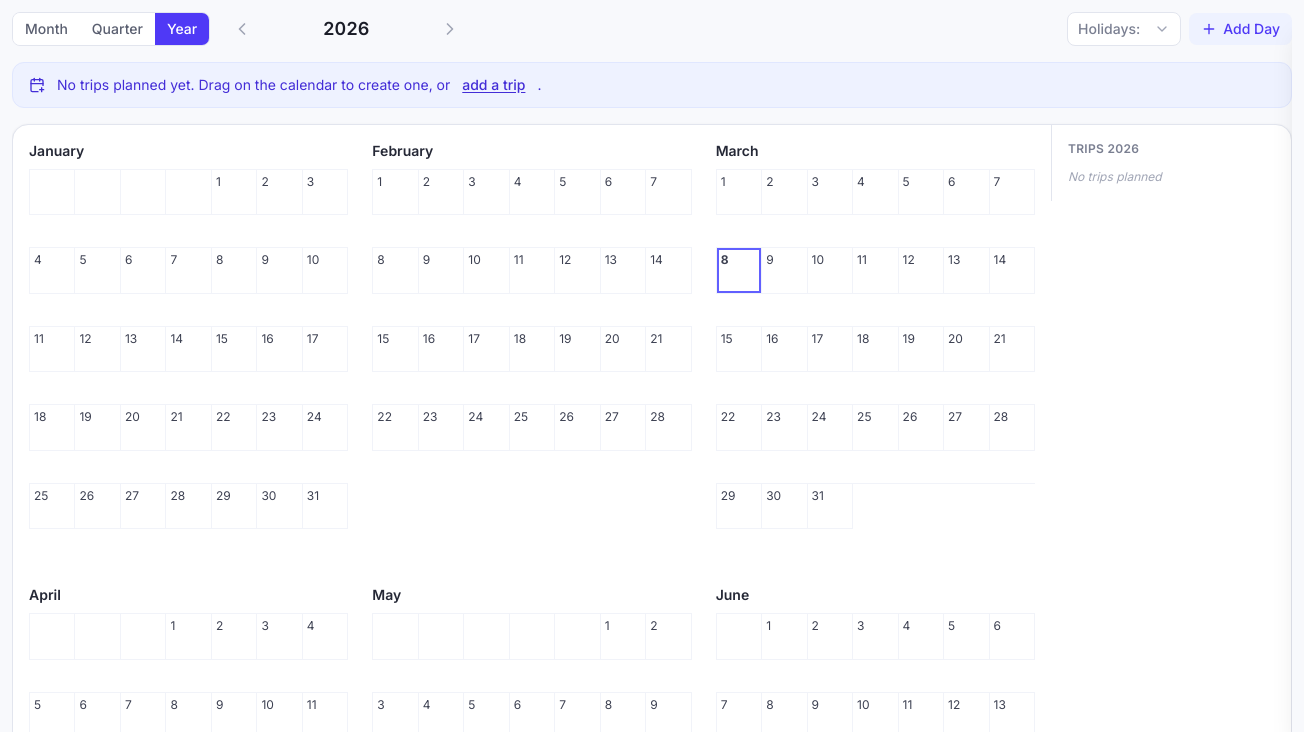
Test case: PlanningCenterPage › switches to month view on Month click
Expected: the button "January" is shown, [29, 141, 84, 161]
Click the button "Month". click: [46, 29]
box: [13, 13, 80, 45]
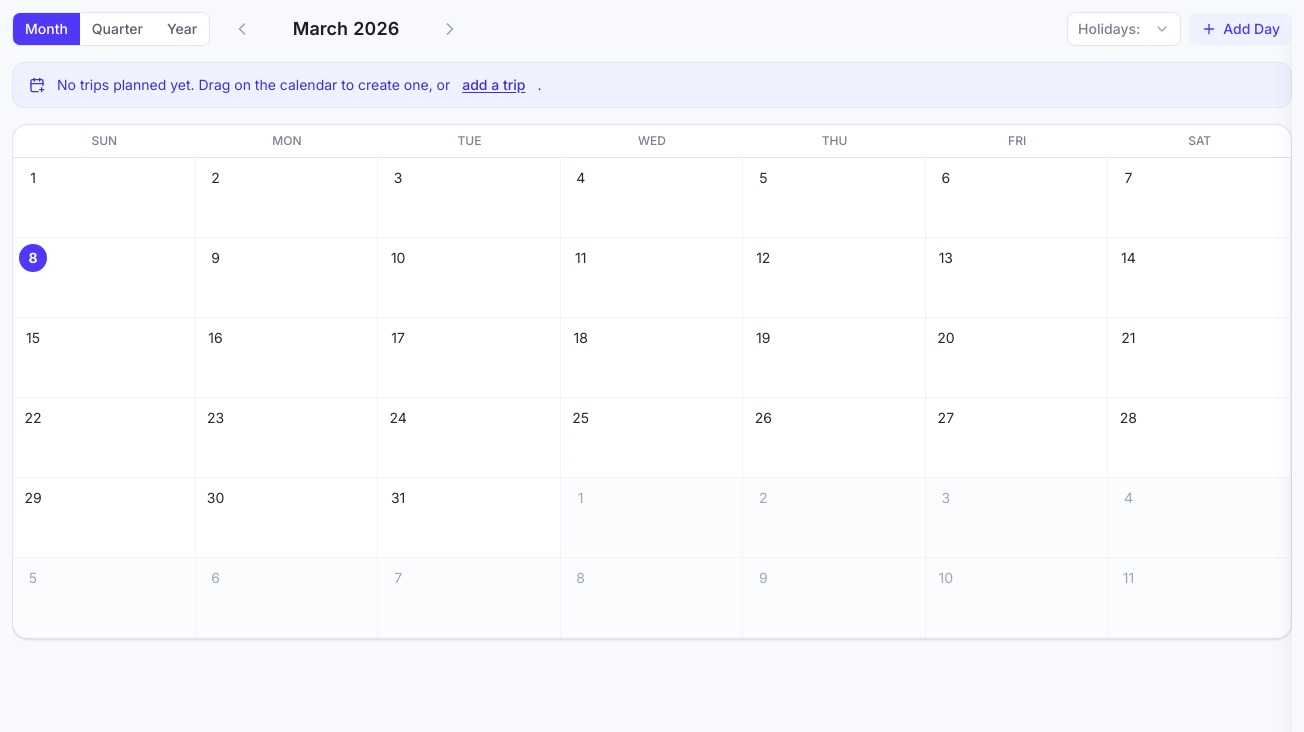
Result: the text "Sun" is shown at [91, 133, 117, 148]
Result: the text "Mon" is shown at [272, 133, 301, 148]
